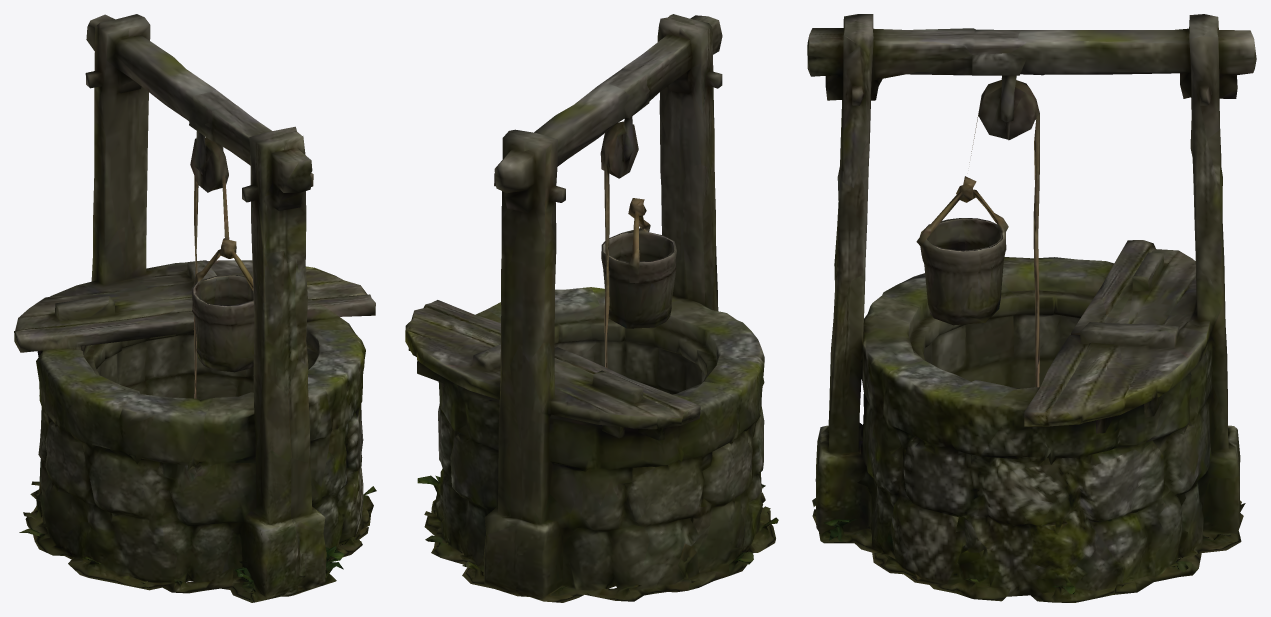
The model's file is well.glb.
3 renders of one model, left to right at view 1: azimuth 30°, elevation 25°; view 2: azimuth 150°, elevation 25°; view 3: azimuth 270°, elevation 25°, orthographic. The views are drawn at different scales.
Visible parts, largest first — view 1: tripo_node_b2f471f6-9697-4ff8-a5c7-bd2af8c19f00; view 2: tripo_node_b2f471f6-9697-4ff8-a5c7-bd2af8c19f00; view 3: tripo_node_b2f471f6-9697-4ff8-a5c7-bd2af8c19f00.
Boxes of the visible parts, <box> form: tripo_node_b2f471f6-9697-4ff8-a5c7-bd2af8c19f00: <box>14,14,376,602</box>; tripo_node_b2f471f6-9697-4ff8-a5c7-bd2af8c19f00: <box>405,14,778,602</box>; tripo_node_b2f471f6-9697-4ff8-a5c7-bd2af8c19f00: <box>807,14,1256,602</box>.
Size of the model in its own units: 0.7915 by 1 by 0.8139.
Materials: 1 (1 with a texture image).
